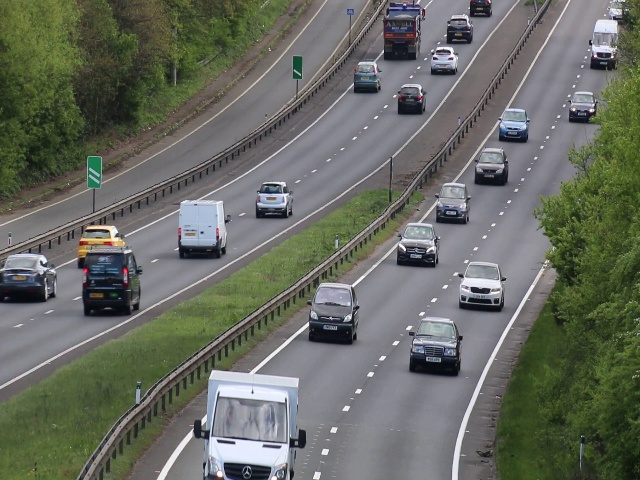car: (195, 368, 303, 480), (83, 247, 141, 316), (405, 315, 463, 377), (177, 197, 229, 258), (308, 283, 359, 343), (3, 251, 58, 304), (459, 258, 505, 312), (382, 6, 421, 62), (396, 219, 438, 269), (434, 180, 470, 225), (256, 179, 293, 218), (497, 104, 529, 145), (476, 148, 508, 189), (565, 88, 597, 125), (590, 22, 612, 72), (397, 81, 428, 116), (442, 14, 478, 43), (353, 59, 381, 95), (431, 43, 458, 79), (79, 226, 120, 246)
